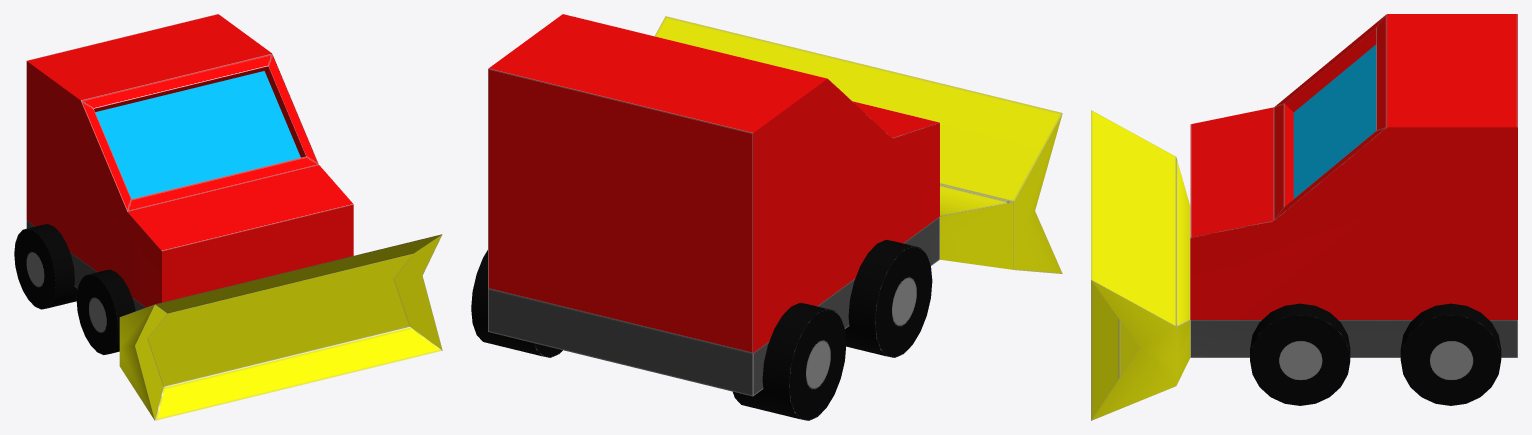
File: SnowPlowModel.fbx
The picture shows the model from 3 angles, left to right: view 1: azimuth 30°, elevation 25°; view 2: azimuth 150°, elevation 25°; view 3: azimuth 270°, elevation 25°; orthographic projection. The views are drawn at different scales.
Visible parts, largest first — view 1: PlowBase1; view 2: PlowBase1; view 3: PlowBase1.
Boxes of the visible parts, box(x1,y1,x2,y2) form: PlowBase1: box(14, 14, 442, 420); PlowBase1: box(471, 14, 1062, 420); PlowBase1: box(1091, 14, 1517, 420).
Size of the model in its own units: 6 by 4.4 by 6.37.
